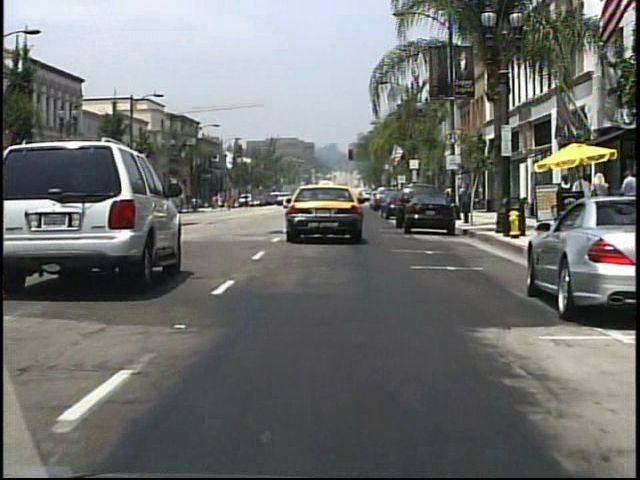person: (570, 169, 593, 226), (590, 169, 612, 226), (617, 170, 637, 229), (553, 172, 573, 226), (243, 193, 251, 209)
